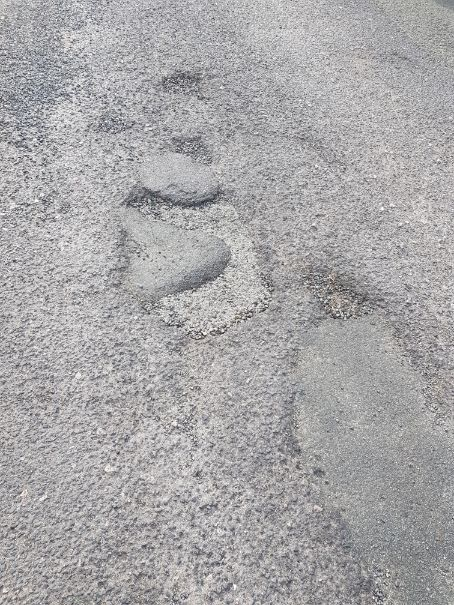pothole: (109, 176, 282, 336)
